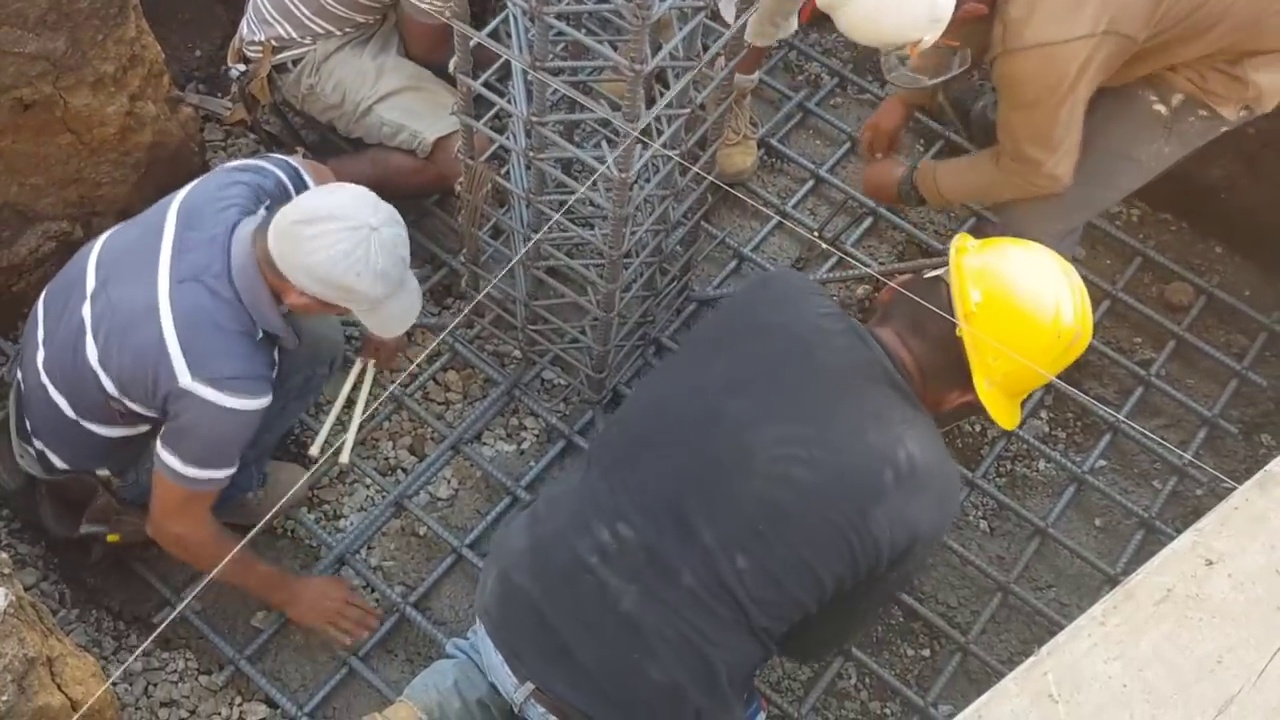helmet: (941, 234, 1098, 431), (818, 1, 958, 59)
helmet-off: (263, 190, 412, 352)
helmet-on: (856, 234, 1094, 433), (825, 5, 1023, 66)
person: (368, 237, 1098, 720), (19, 161, 423, 644), (819, 0, 1280, 239), (225, 0, 541, 265), (604, 0, 798, 182)
